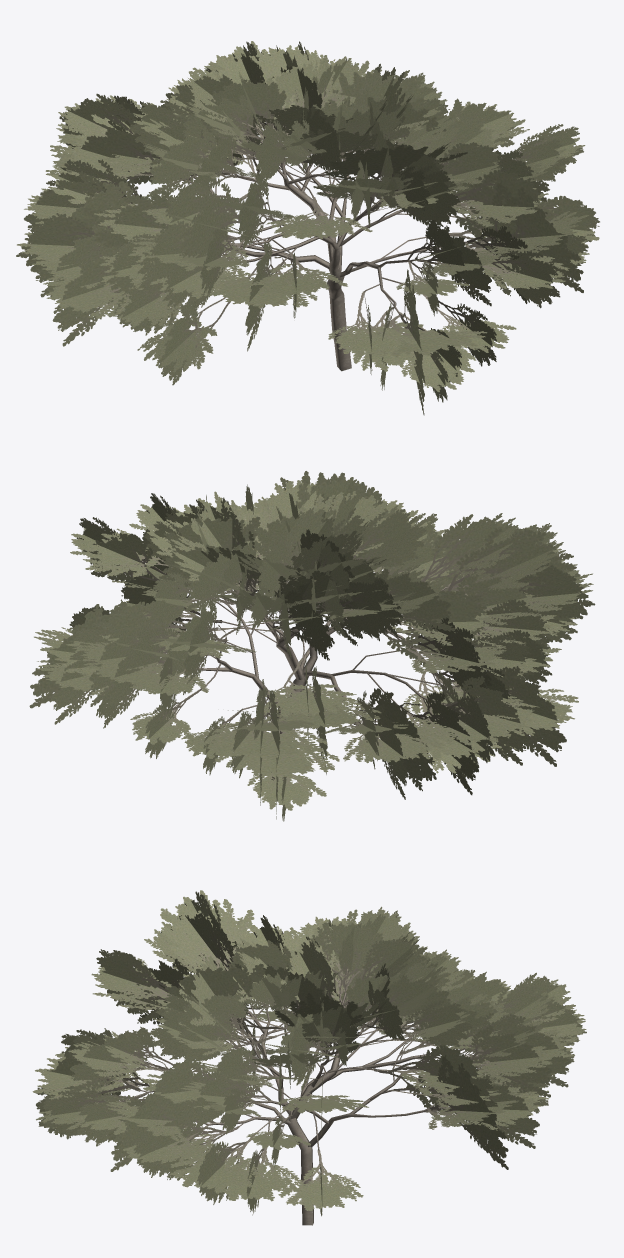
File: AcaciaTortilis.glb
The picture shows the model from 3 angles, top to bottom: view 1: azimuth 30°, elevation 25°; view 2: azimuth 150°, elevation 25°; view 3: azimuth 270°, elevation 25°; orthographic projection. The views are drawn at different scales.
Parts seen in each view (by area): view 1: Umbrella_Acacia__Realistic_LOD3; view 2: Umbrella_Acacia__Realistic_LOD3; view 3: Umbrella_Acacia__Realistic_LOD3.
Part boxes in pixels (x1,y1,x2,y2): Umbrella_Acacia__Realistic_LOD3: (16, 41, 599, 415); Umbrella_Acacia__Realistic_LOD3: (29, 471, 595, 821); Umbrella_Acacia__Realistic_LOD3: (32, 890, 586, 1225).
Bounding box in the file's own units: 34.84 × 20.07 × 37.43.
1 material, 1 textured.
